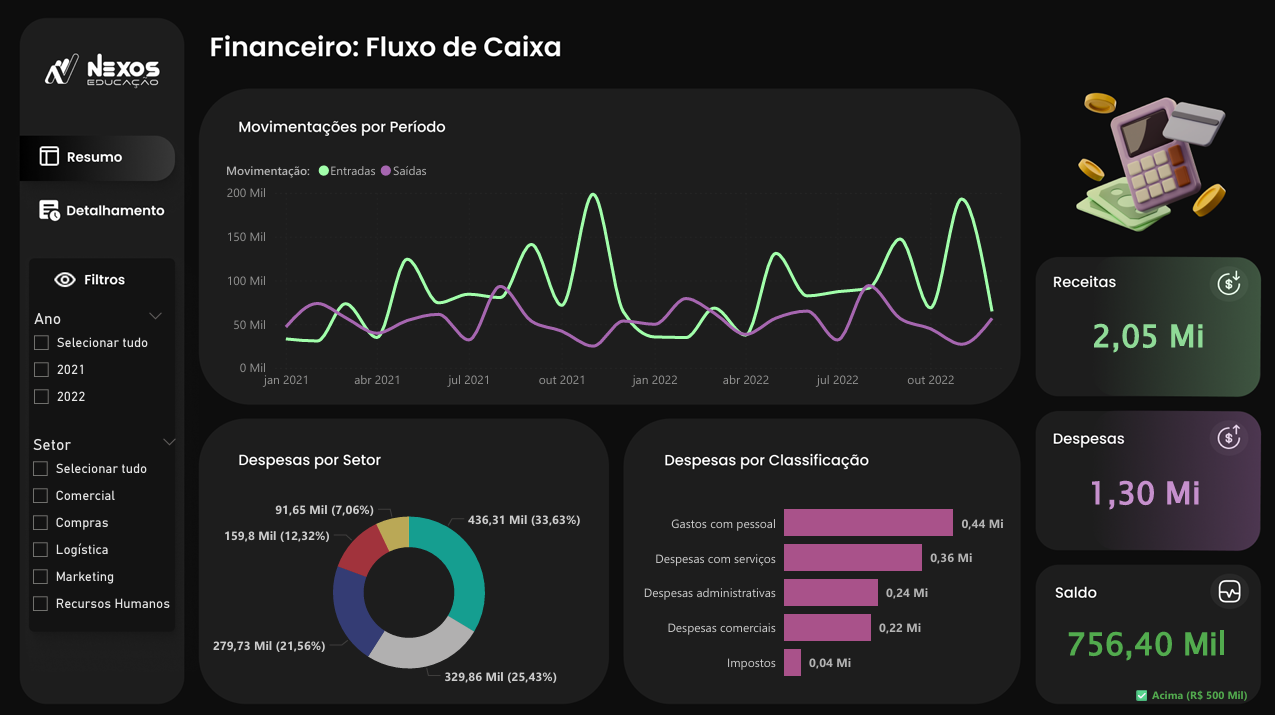

The dashboard page shown, as its layout file describes it:
{"tool":"powerbi","page":{"name":"Página 1","canvas":[1280,720],"ordinal":0},"visuals":[{"type":"card","title":"Meta Mínima: R$ 500 Mil","fields":{"Values":["Sum(Movimentações.Saldo)"]},"box":[1051.6,599.4,191.5,90.4],"z":0},{"type":"card","fields":{"Values":["Sum(Movimentações.Valor)"]},"box":[1053.2,290.3,191.5,93.7],"z":1000},{"type":"card","fields":{"Values":["Sum(Movimentações.Valor)"]},"box":[1049.2,448.5,191.5,90.7],"z":2000},{"type":"donutChart","fields":{"Category":["Setores.Setor"],"Y":["Sum(Movimentações.Valor)"]},"box":[209.6,489.8,400.1,207.6],"z":3000},{"type":"clusteredBarChart","fields":{"Category":["Movimentações.Classificação"],"Y":["Sum(Movimentações.Valor)"]},"box":[628.9,483.8,383,213.7],"z":4000},{"type":"lineChart","fields":{"Category":["Movimentações.Data.Variation.Hierarquia de datas.Ano","Movimentações.Data.Variation.Hierarquia de datas.Trimestre","Movimentações.Data.Variation.Hierarquia de datas.Mês","Movimentações.Data.Variation.Hierarquia de datas.Dia"],"Series":["Movimentações.Tipo Movimentação"],"Y":["Sum(Movimentações.Valor)"]},"box":[222.2,152.2,800,246.7],"z":6000},{"type":"card","fields":{"Values":["Movimentações.Meta"]},"box":[1119.9,684.5,144.5,26.6],"z":7000},{"type":"slicer","fields":{"Values":["Setores.Setor"]},"box":[21,431,169,197],"z":8000},{"type":"shape","box":[32.3,192.5,144.1,37.3],"z":10001},{"type":"slicer","fields":{"Values":["Movimentações.Data.Variation.Hierarquia de datas.Ano"]},"box":[22.2,305.4,154.2,127],"z":10002}]}

Visuals, with their boxes on the page's 1280x720 design canvas (x1, y1, x2, y2). These are canvas units, not pixel positions in the 1275x715 screenshot, which may show the page scaled, cropped or inside an application window:
"Meta Mínima: R$ 500 Mil" card: select_region(1052, 599, 1243, 690)
card - Sum(Movimentações.Valor): select_region(1053, 290, 1245, 384)
card - Sum(Movimentações.Valor): select_region(1049, 448, 1241, 539)
donutChart - Setores.Setor x Sum(Movimentações.Valor): select_region(210, 490, 610, 697)
clusteredBarChart - Movimentações.Classificação x Sum(Movimentações.Valor): select_region(629, 484, 1012, 698)
lineChart - Movimentações.Data.Variation.Hierarquia de datas.Ano x Movimentações.Data.Variation.Hierarquia de datas.Trimestre: select_region(222, 152, 1022, 399)
card - Movimentações.Meta: select_region(1120, 684, 1264, 711)
slicer - Setores.Setor: select_region(21, 431, 190, 628)
shape: select_region(32, 192, 176, 230)
slicer - Movimentações.Data.Variation.Hierarquia de datas.Ano: select_region(22, 305, 176, 432)
